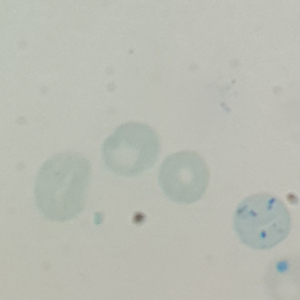aggregate reticulocyte: (232, 191, 293, 251)
erythrocyte: (98, 120, 161, 179), (154, 147, 211, 205)
punctate reticulocyte: (33, 150, 94, 224)
